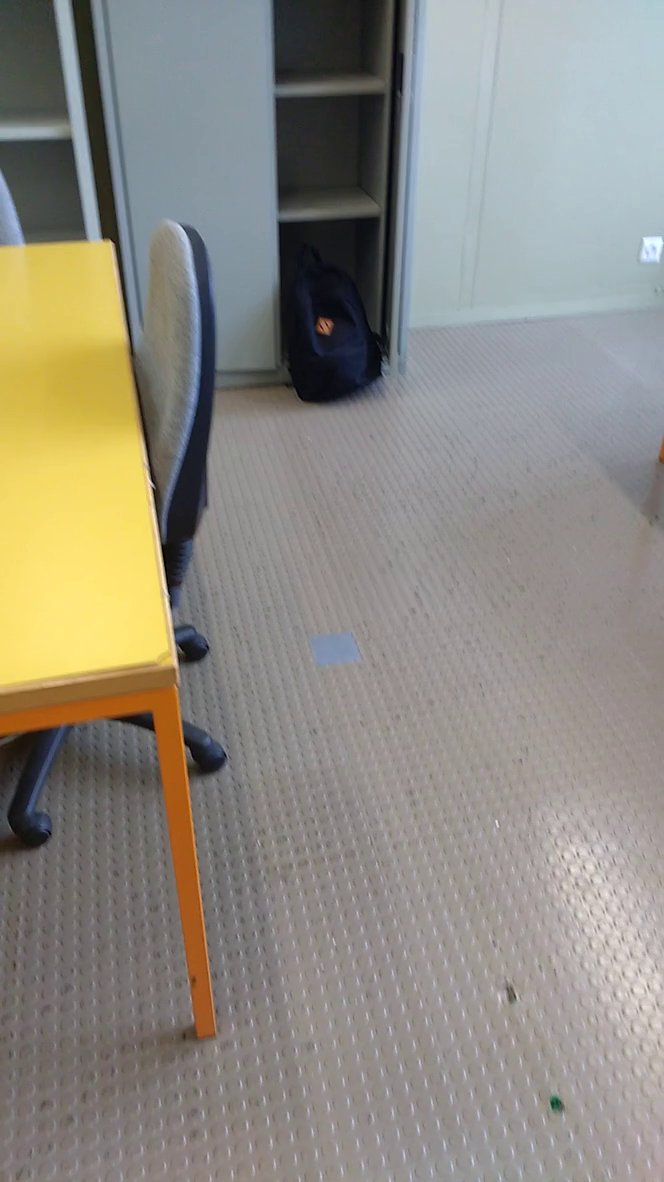bag: (263, 231, 394, 408)
chair: (121, 211, 238, 696)
